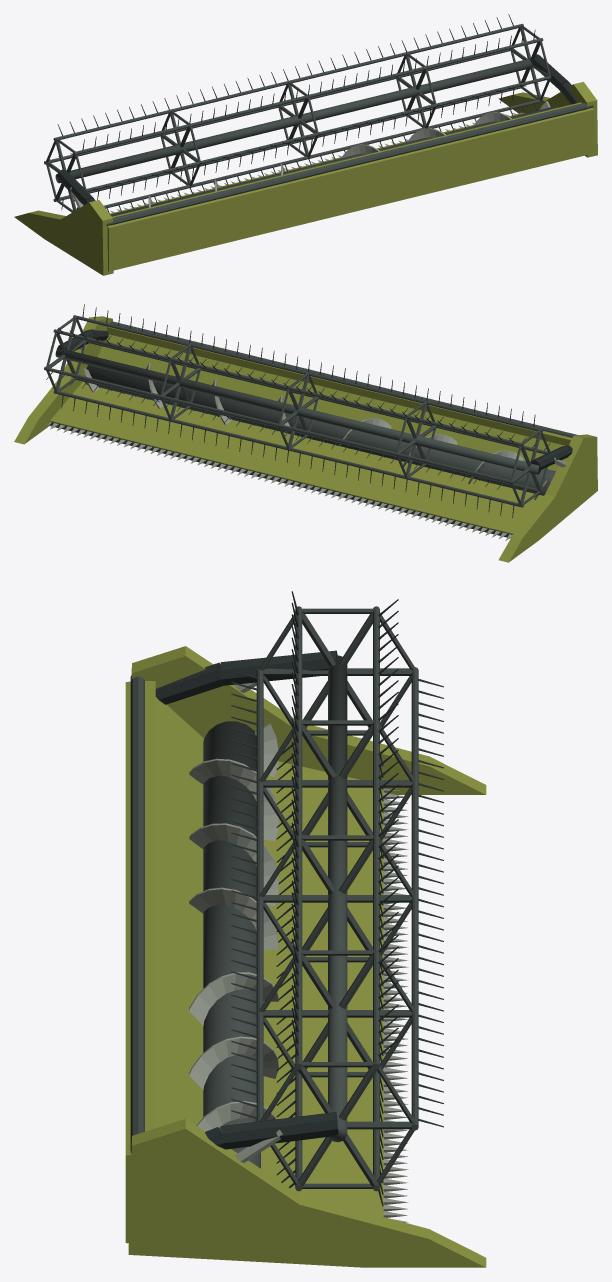
The model's file is plataforma.glb.
The picture shows the model from 3 angles, top to bottom: view 1: azimuth 30°, elevation 25°; view 2: azimuth 150°, elevation 25°; view 3: azimuth 270°, elevation 25°; orthographic projection. The views are drawn at different scales.
Parts seen in each view (by area): view 1: BarraDeCorte, Molinete; view 2: BarraDeCorte, Molinete; view 3: BarraDeCorte, Molinete.
Boxes of the visible parts, box(x1,y1,x2,y2) form: BarraDeCorte: box(14, 54, 597, 275); Molinete: box(44, 14, 551, 213); BarraDeCorte: box(14, 316, 597, 562); Molinete: box(44, 304, 550, 517); BarraDeCorte: box(125, 646, 486, 1267); Molinete: box(231, 591, 443, 1206).
Size of the model in its own units: 7.22 by 1.51 by 2.28.
